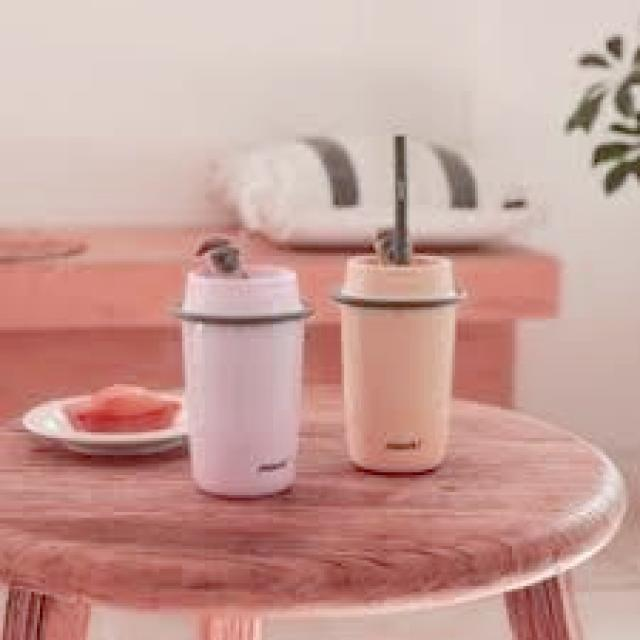bottle: (166, 259, 314, 503), (328, 254, 471, 476)
